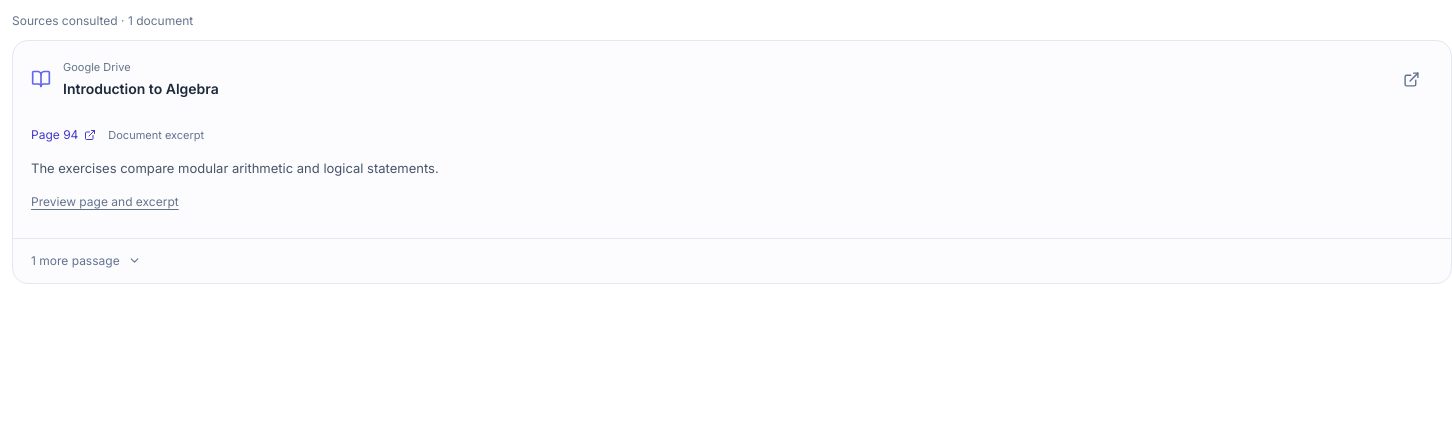
Test: Copilot document cards › groups multiple passages by document, prioritizes actual reads and removes duplicate previews
Expected: the text "The exercises compare modular arithmetic and logical statements." is shown, [31, 160, 439, 176]
Click the button "1 more passage" at (86, 261), box [13, 239, 159, 283]
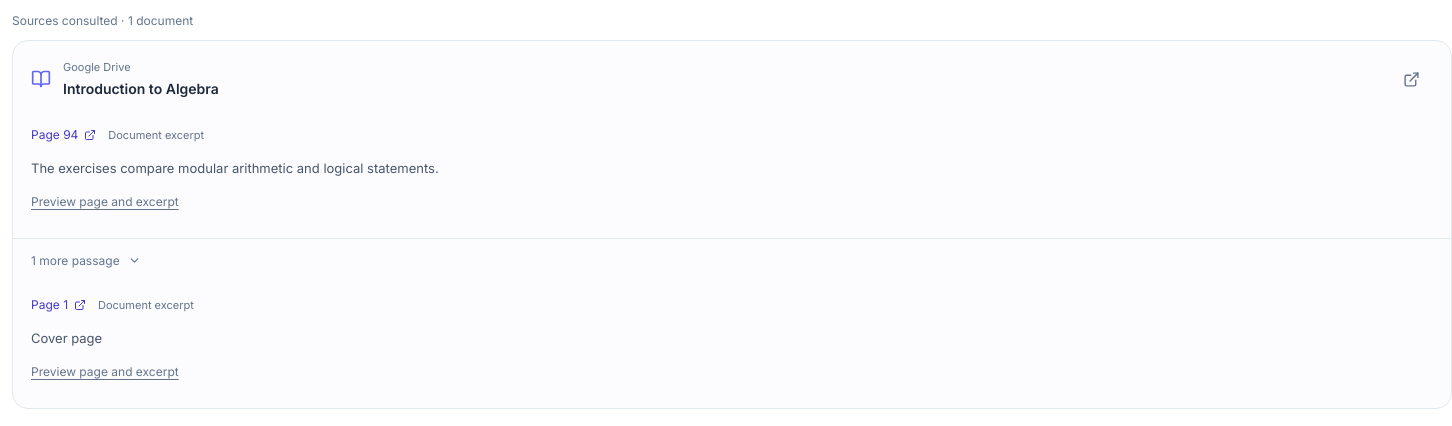
Now the text "Cover page" is shown once, box [31, 330, 102, 346]
